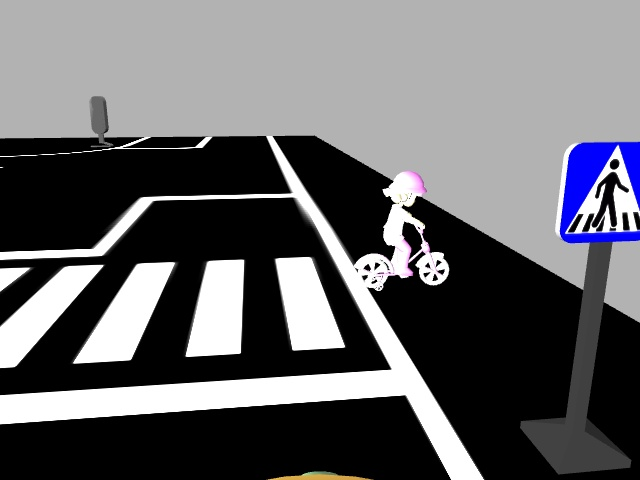Crosswalk: (552, 138, 639, 250)
Pedestrian: (341, 159, 459, 296)
